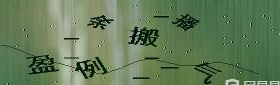chinese: (25, 47, 60, 74), (71, 56, 108, 78), (193, 58, 222, 84), (174, 12, 204, 37), (86, 11, 113, 34), (129, 26, 156, 49)
